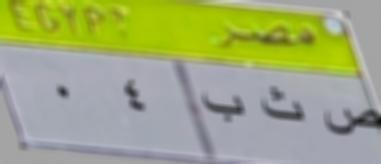0: (50, 79, 74, 104)
4: (120, 78, 150, 115)
baa: (199, 86, 247, 129)
saad: (320, 98, 381, 138)
thaa: (257, 84, 306, 128)
